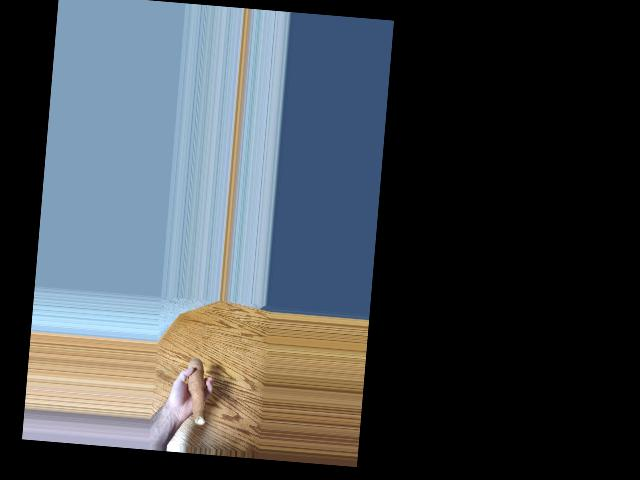sweet_potato: (183, 358, 208, 423)
